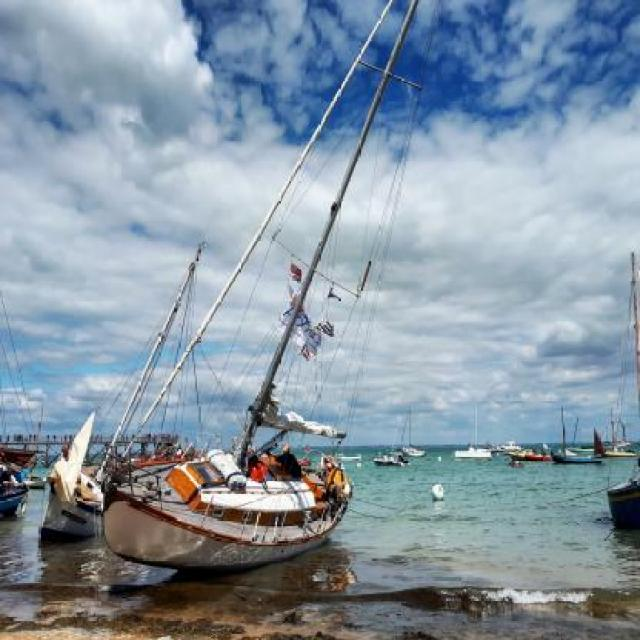ship: (102, 0, 440, 568), (38, 242, 204, 544), (605, 251, 638, 529), (2, 304, 43, 476), (548, 404, 603, 467), (454, 402, 491, 458), (395, 405, 427, 458), (600, 407, 632, 445), (372, 452, 410, 466), (508, 448, 552, 460), (488, 438, 520, 451), (22, 474, 46, 488)
